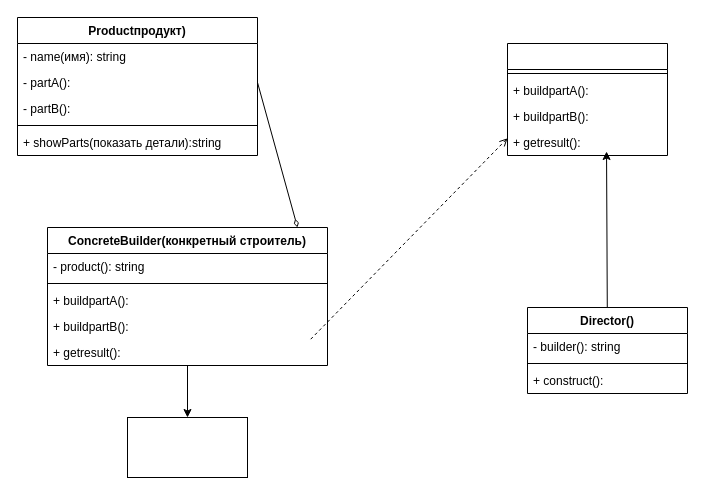
Image size: 705x495. Some labels were removed from this diagram. Each missing label, with the box of its shape:
Builder(строитель): (506, 42, 668, 156)
Prodcut(продукт): (126, 416, 248, 478)
